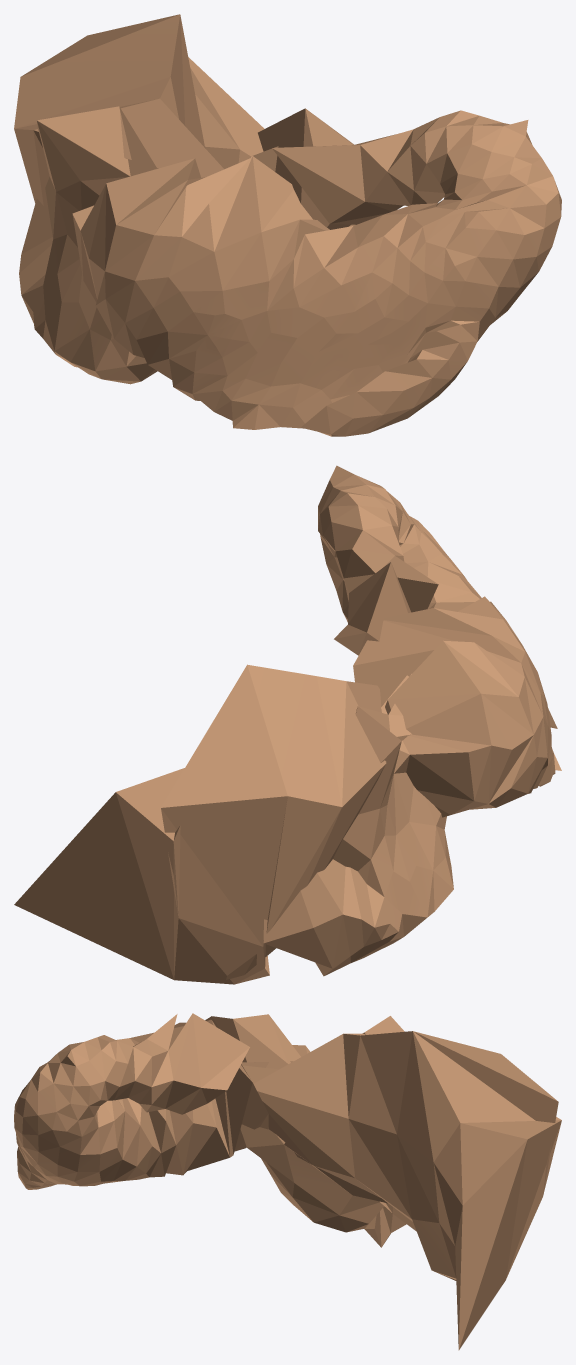
3 renders of one model, top to bottom at view 1: azimuth 30°, elevation 25°; view 2: azimuth 150°, elevation 25°; view 3: azimuth 270°, elevation 25°, orthographic. The views are drawn at different scales.
Bounding box in the file's own units: 10.61 × 8.5 × 15.21.
